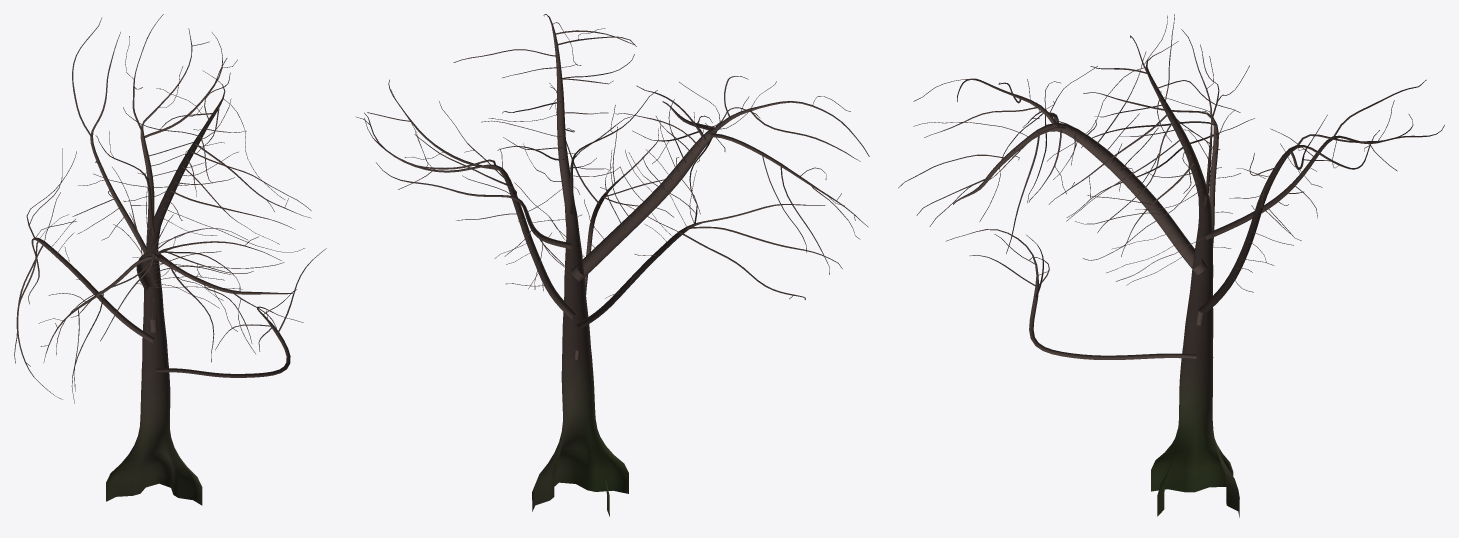
The model's file is SM_Tree_sycamore_2_bare.glb.
3 views of the same model, side by side, from view 1: azimuth 30°, elevation 25°; view 2: azimuth 150°, elevation 25°; view 3: azimuth 270°, elevation 25° (orthographic). The views are drawn at different scales.
Visible parts, largest first — view 1: SM_Tree_sycamore_2_bare; view 2: SM_Tree_sycamore_2_bare; view 3: SM_Tree_sycamore_2_bare.
Part boxes in pixels (left/top/right/bottom): SM_Tree_sycamore_2_bare: left=14, top=14, right=326, bottom=505; SM_Tree_sycamore_2_bare: left=355, top=14, right=869, bottom=516; SM_Tree_sycamore_2_bare: left=898, top=14, right=1444, bottom=517.
Size of the model in its own units: 10.65 by 13.52 by 13.76.
